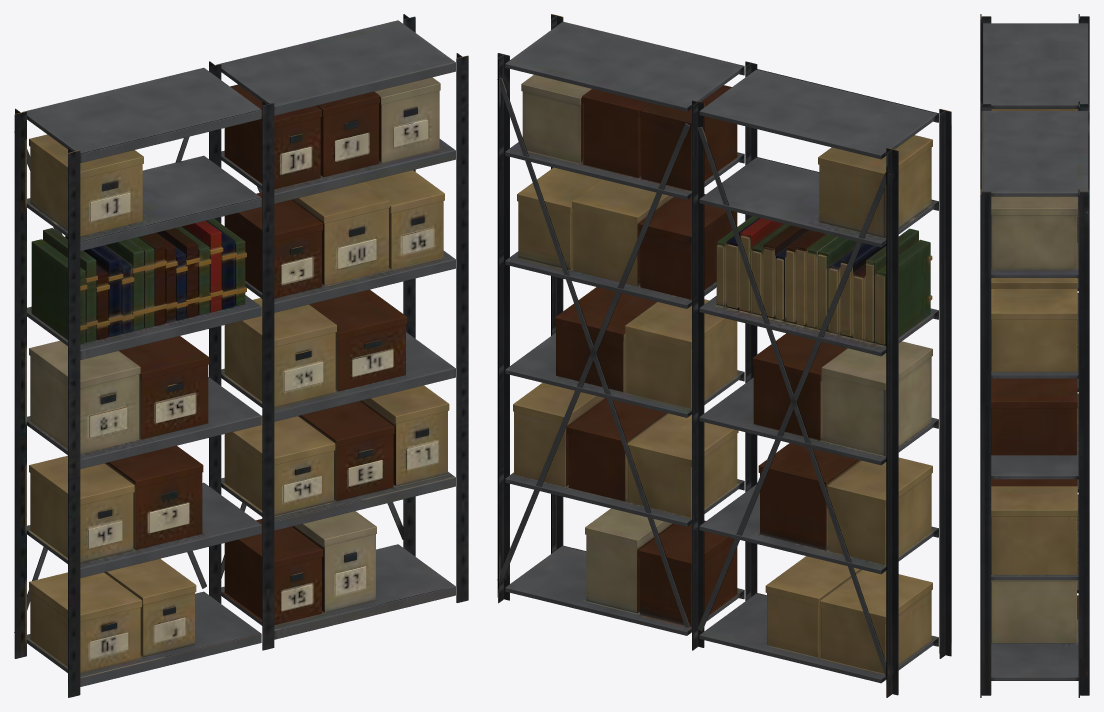
The model's file is archive_shelves.glb.
The picture shows the model from 3 angles, left to right: view 1: azimuth 30°, elevation 25°; view 2: azimuth 150°, elevation 25°; view 3: azimuth 270°, elevation 25°; orthographic projection. The views are drawn at different scales.
Parts seen in each view (by area): view 1: archive_shelves; view 2: archive_shelves; view 3: archive_shelves.
Boxes of the visible parts, x1,y1,x2,y2 form: archive_shelves: (14,14,468,697); archive_shelves: (497,14,951,697); archive_shelves: (980,14,1089,697).
Size of the model in its own units: 2 by 2.6 by 0.512.
2 materials, 2 textured.
